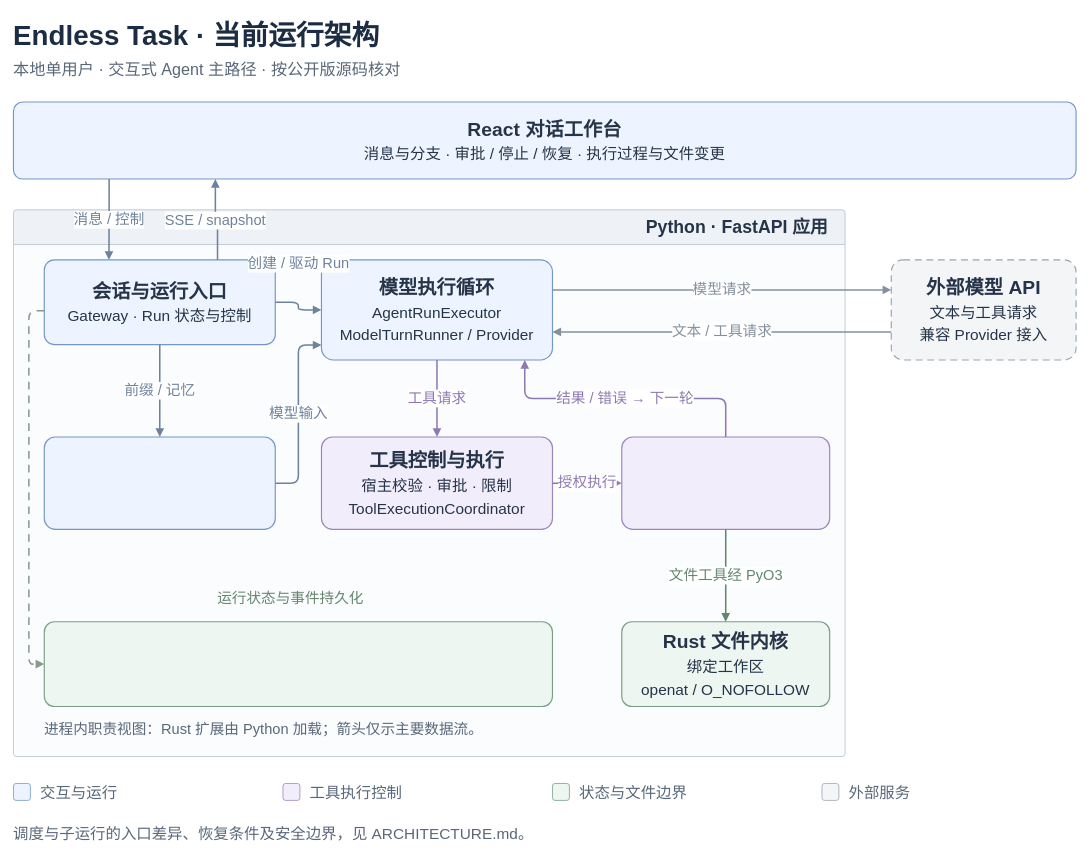
This 1090x858 diagram has some shape labels left out. Each missing label, with the centre of its shape:
"SQLite · 运行状态与事件 会话 / Run / 产品事件 · 快照与 SSE 重放" belongs at point 298,664.
"上下文装配 前缀 / 历史 / 作用域记忆 检索 / 压缩与预算" belongs at point 159,483.
"已注册工具 文件 / Shell / Skills MCP / 内部委派" belongs at point 725,483.
